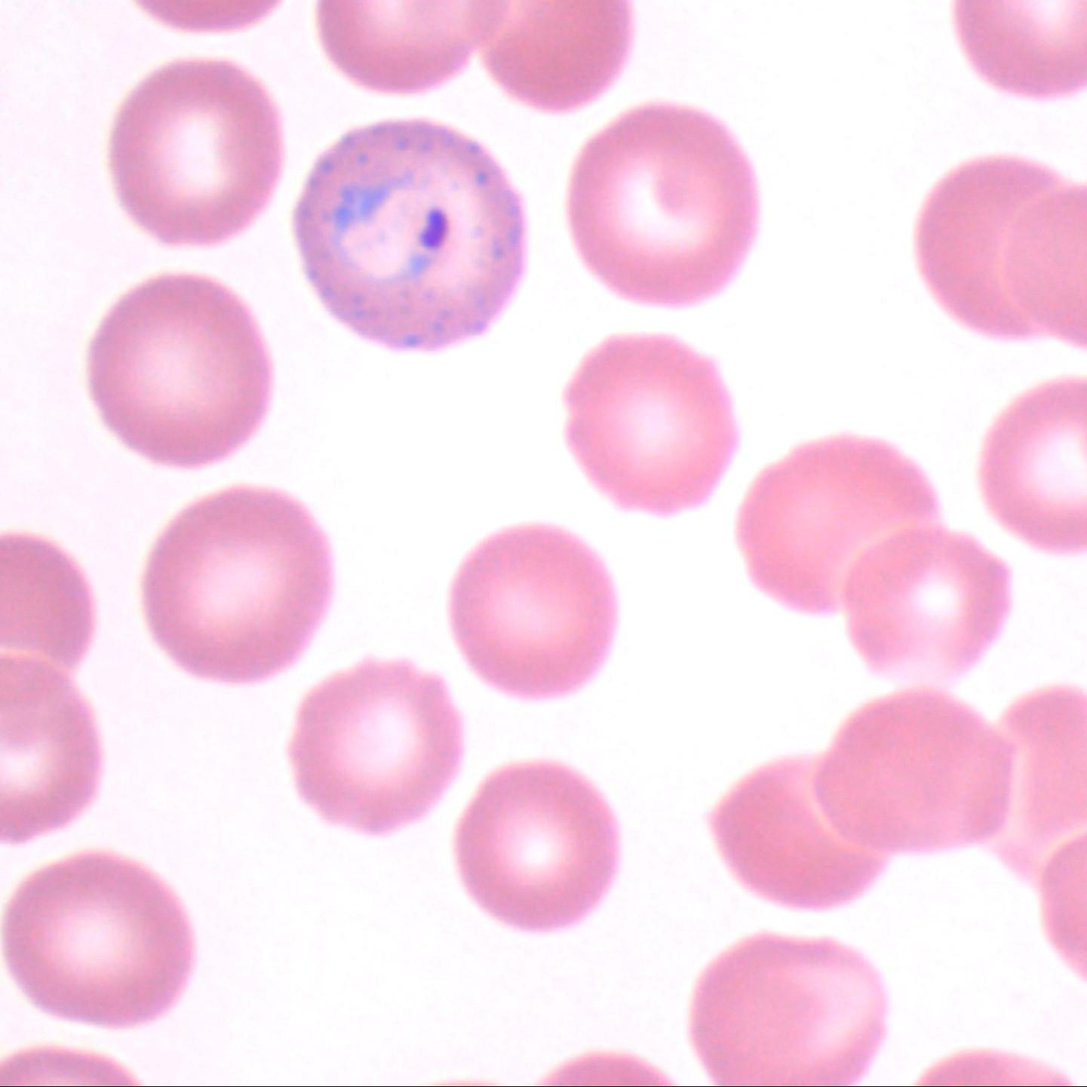Infected: (295, 116, 527, 348)
Uninfected: (569, 103, 761, 300), (144, 487, 330, 681), (88, 275, 269, 465), (742, 438, 938, 612), (111, 54, 287, 245), (2, 850, 187, 1025), (819, 692, 1010, 855), (564, 334, 737, 512), (293, 661, 462, 833), (450, 526, 613, 699), (920, 156, 1071, 338), (695, 939, 881, 1084), (453, 763, 614, 929), (839, 527, 1006, 682), (716, 760, 883, 910), (487, 1, 629, 111)
